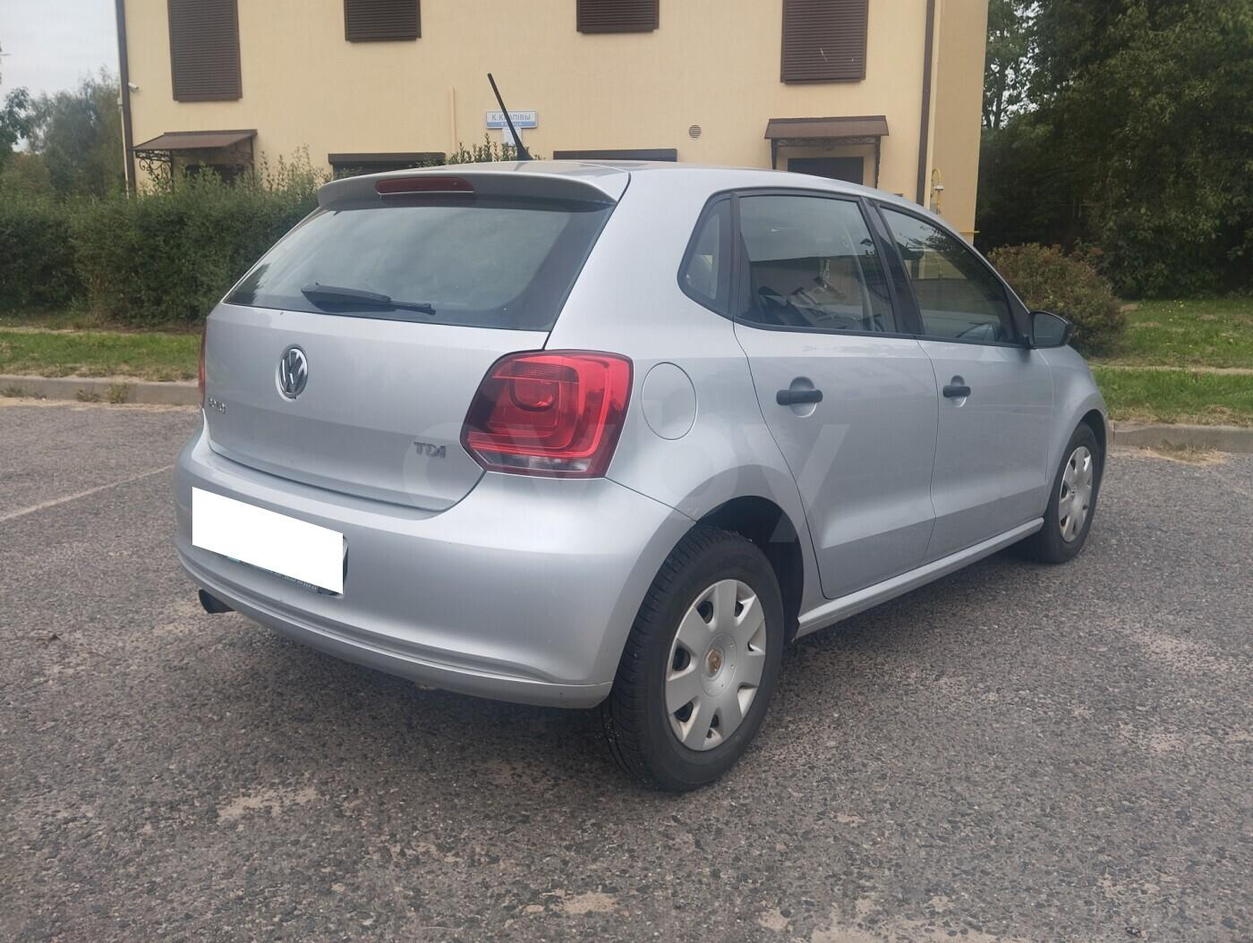Polo_2009-2015: (129, 141, 1143, 799)
